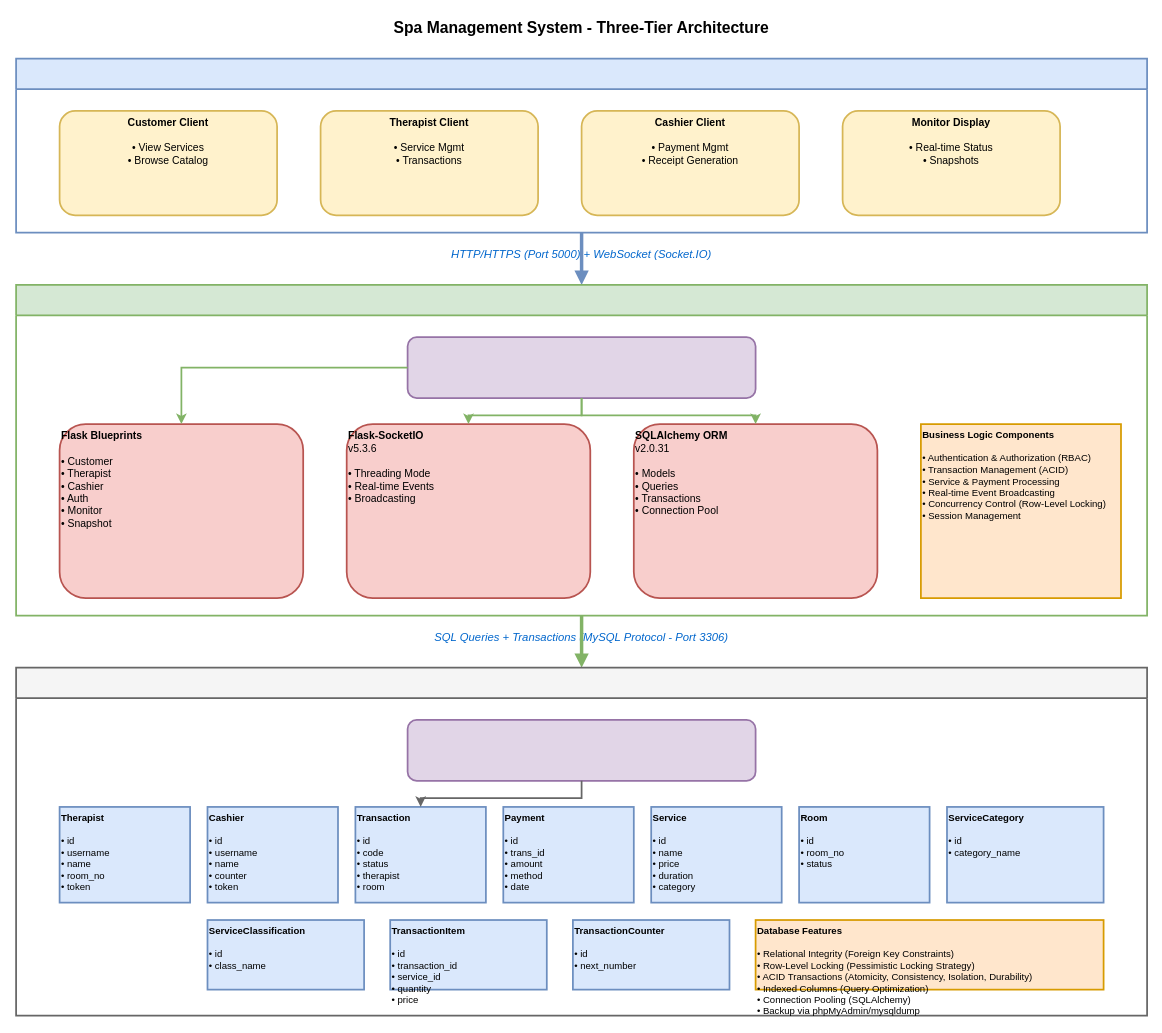
This 1162x1033 diagram has some shape labels left out. Here are the shapes that lost their labels. From the top down, the box of each, then its label:
(15, 57, 1148, 233): PRESENTATION TIER (Client Layer)
(406, 336, 756, 398): Flask Web Server (Python 3.x / WSGI) localhost:5000
(15, 284, 1148, 616): APPLICATION TIER (Business Logic Layer)
(406, 719, 756, 781): MySQL Database Server (XAMPP MySQL v8.x) localhost:3306
(15, 666, 1148, 1016): DATA TIER (Database Layer)
